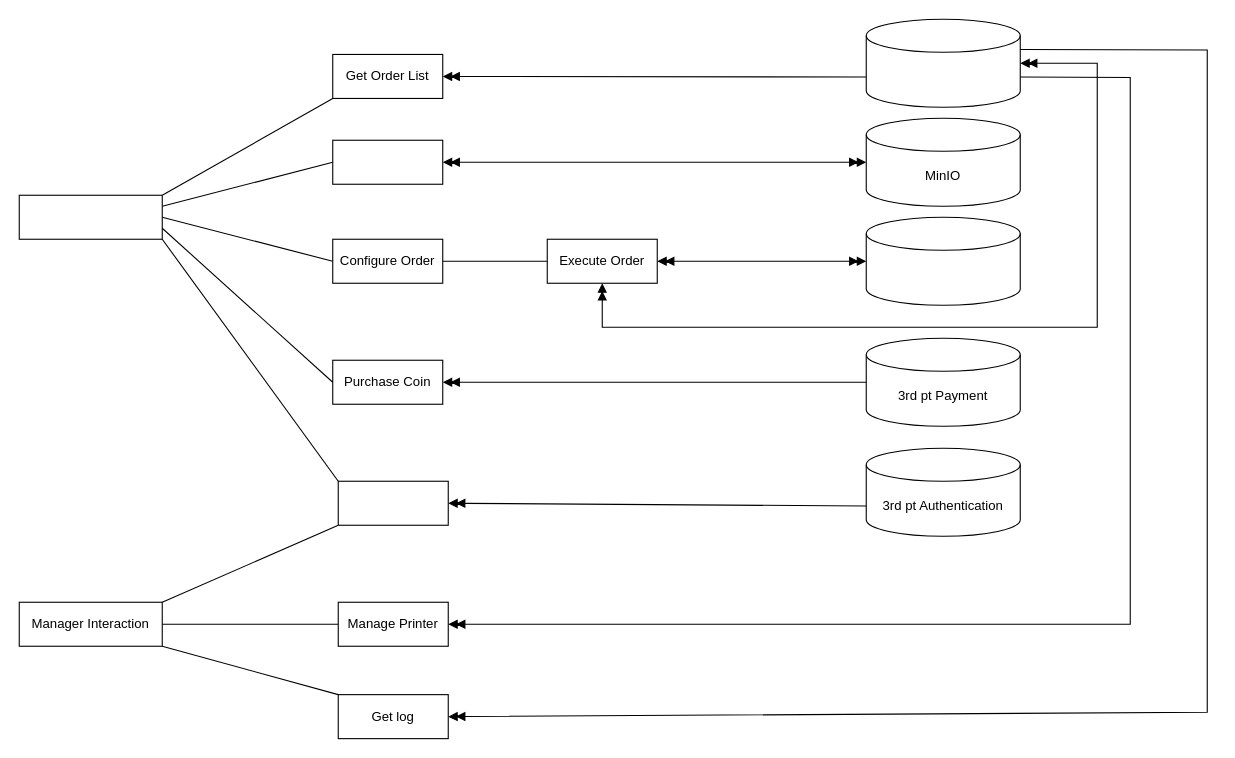
This 1235x758 diagram has some shape labels left out. Each missing label, with the centre of its shape:
Checkout Service: [942,260]
Database Server: [942,62]
Login: [392,502]
Upload files: [387,161]
User Interaction: [90,216]
